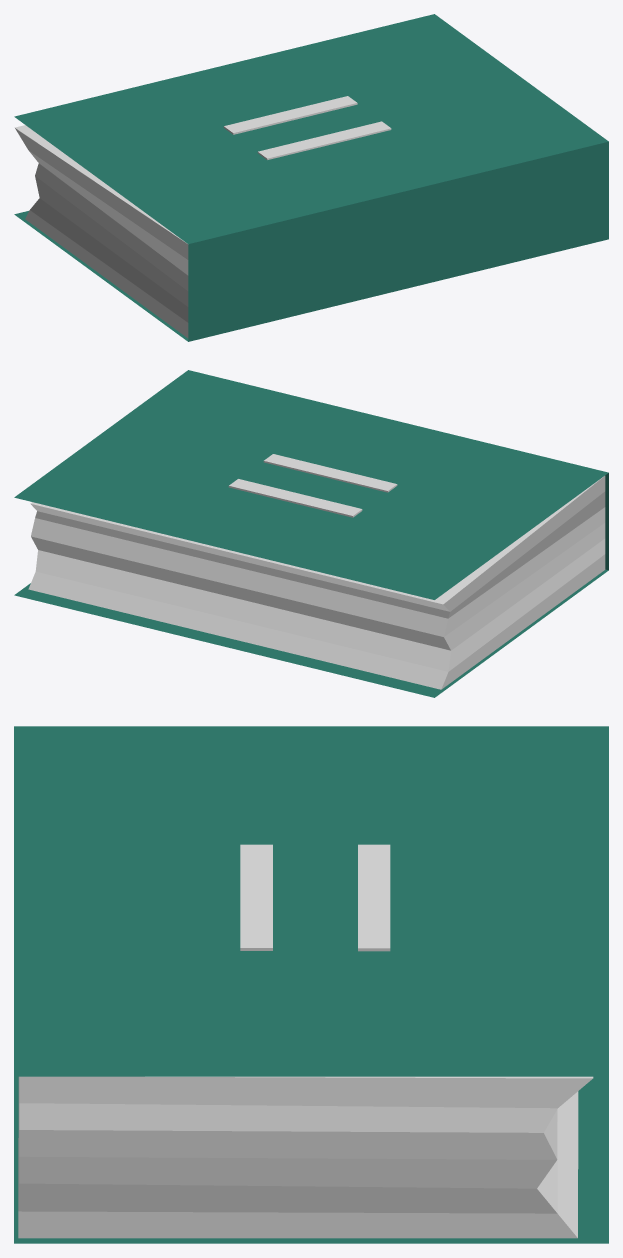
The model's file is 11book.fbx.
The picture shows the model from 3 angles, top to bottom: view 1: azimuth 30°, elevation 25°; view 2: azimuth 150°, elevation 25°; view 3: azimuth 270°, elevation 25°; orthographic projection. The views are drawn at different scales.
Parts seen in each view (by area): view 1: 立方体, Cube, 立方体.001, 立方体.002; view 2: 立方体, Cube, 立方体.001, 立方体.002; view 3: 立方体, Cube, 立方体.001, 立方体.002.
Part boxes in pixels (x1,y1,x2,y2): 立方体: (14, 14, 608, 341); Cube: (15, 125, 188, 338); 立方体.001: (223, 96, 357, 134); 立方体.002: (257, 121, 391, 159); 立方体: (14, 370, 608, 697); Cube: (28, 476, 605, 689); 立方体.001: (228, 479, 362, 517); 立方体.002: (263, 454, 397, 492); 立方体: (14, 726, 608, 1243); Cube: (18, 1076, 593, 1238); 立方体.001: (358, 844, 390, 951); 立方体.002: (240, 844, 272, 950).
Size of the model in its own units: 214 by 47.95 by 152.
